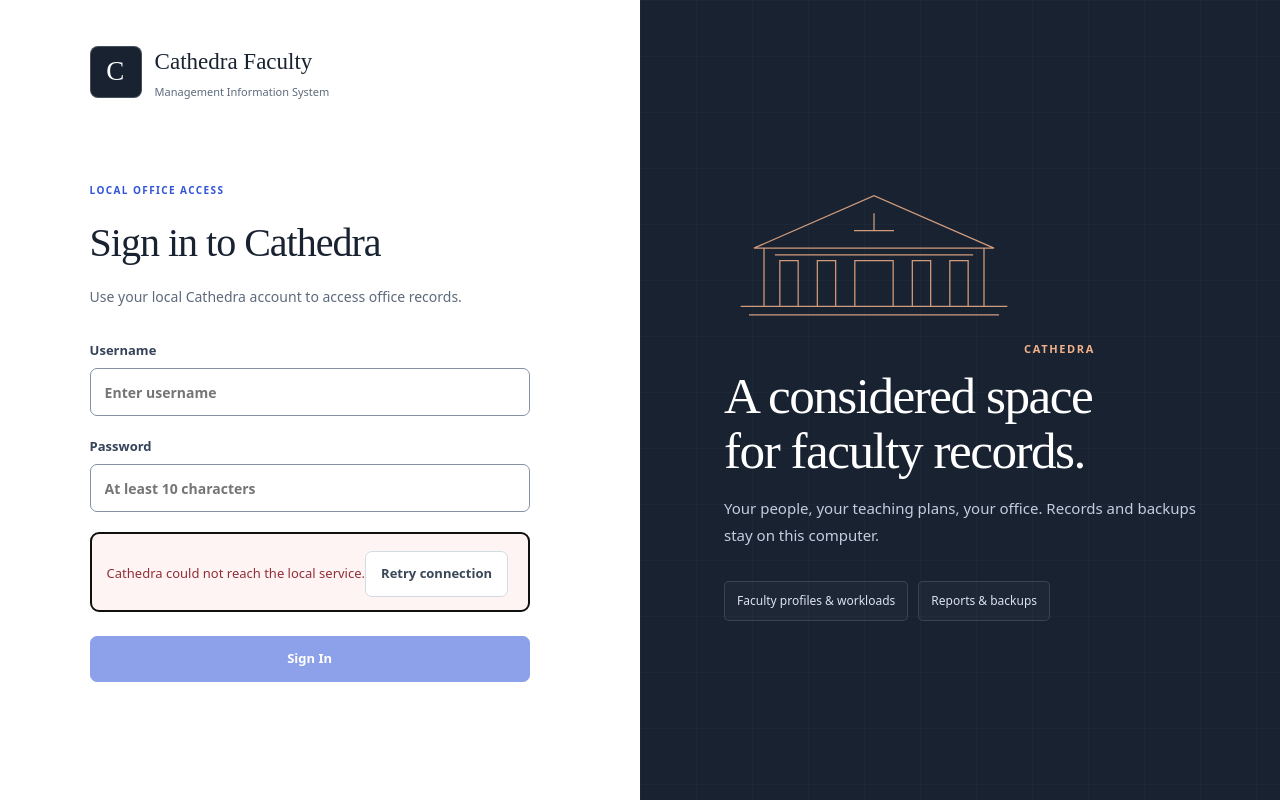
Scenario: sign-in connection errors are announced, focused, and recoverable
What coordinates should you click on to do the following:
click the button "Retry connection"
I would click on:
 (436, 574)
Its box is [365,551,508,597].
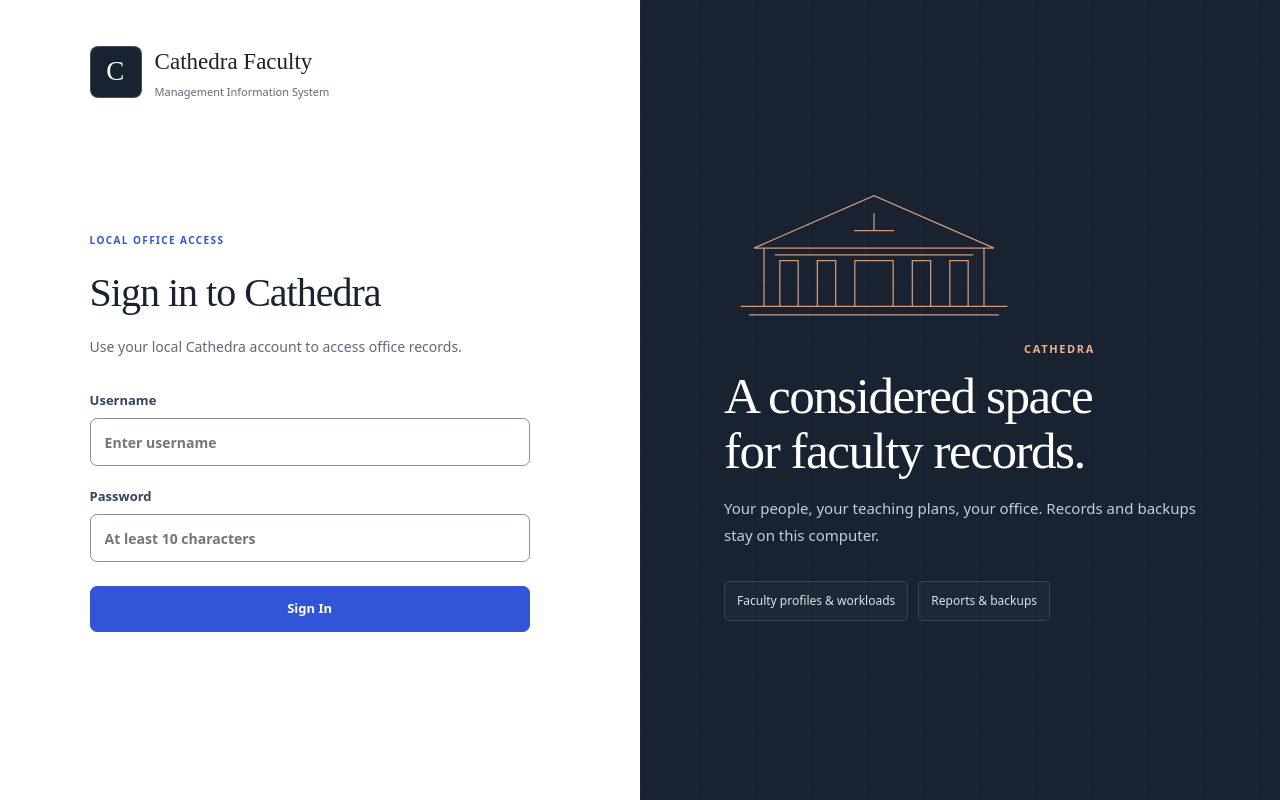
Result: the button "Sign In" is enabled at [90,586,530,632]
Result: the message "Cathedra could not reach the local service. Retry connection" is gone
